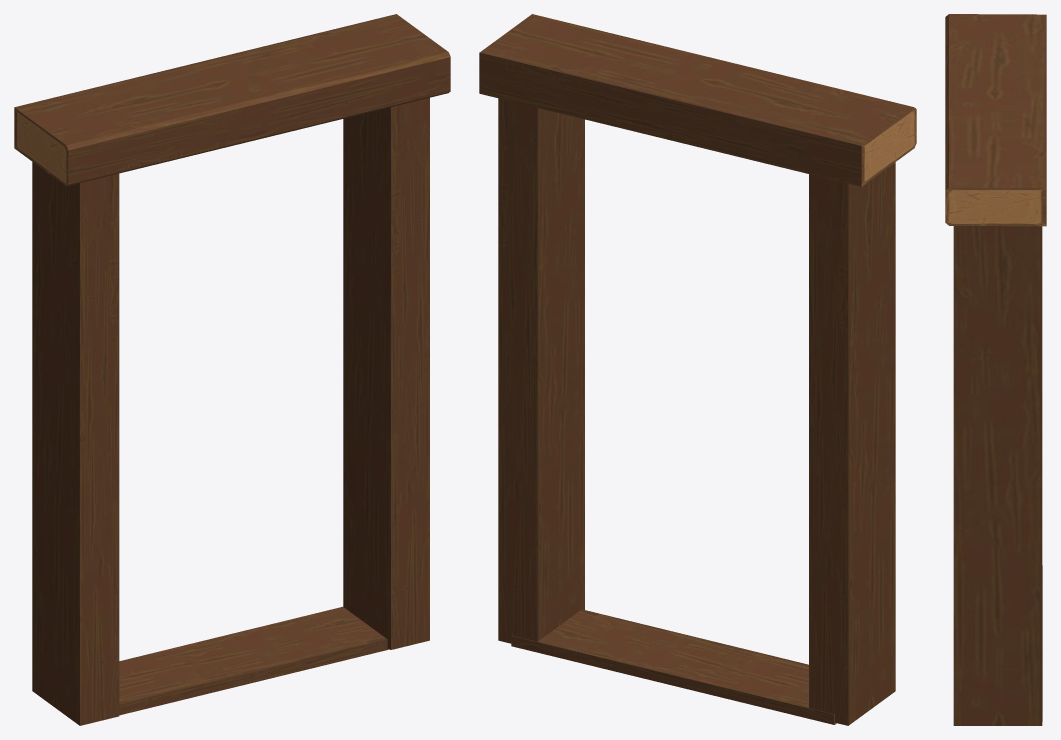
File: gate-qm-doorframeflatwooddark.glb
3 views of the same model, side by side, from view 1: azimuth 30°, elevation 25°; view 2: azimuth 150°, elevation 25°; view 3: azimuth 270°, elevation 25° (orthographic). The views are drawn at different scales.
Parts seen in each view (by area): view 1: Cube_034; view 2: Cube_034; view 3: Cube_034.
Boxes of the visible parts, box(x1,y1,x2,y2) form: Cube_034: box(14, 14, 450, 725); Cube_034: box(479, 14, 916, 725); Cube_034: box(945, 14, 1046, 725).
Size of the model in its own units: 1.57 by 2.31 by 0.3885.
Materials: 1 (1 with a texture image).
